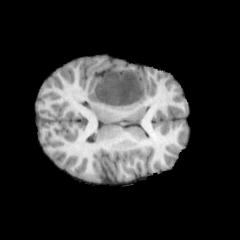glioma: (88, 69, 145, 108)
